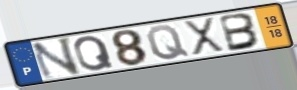8: (110, 27, 150, 67)
B: (218, 12, 263, 54)
N: (28, 35, 84, 82)
Q: (144, 24, 192, 62), (72, 34, 117, 72)
X: (181, 16, 228, 57)
